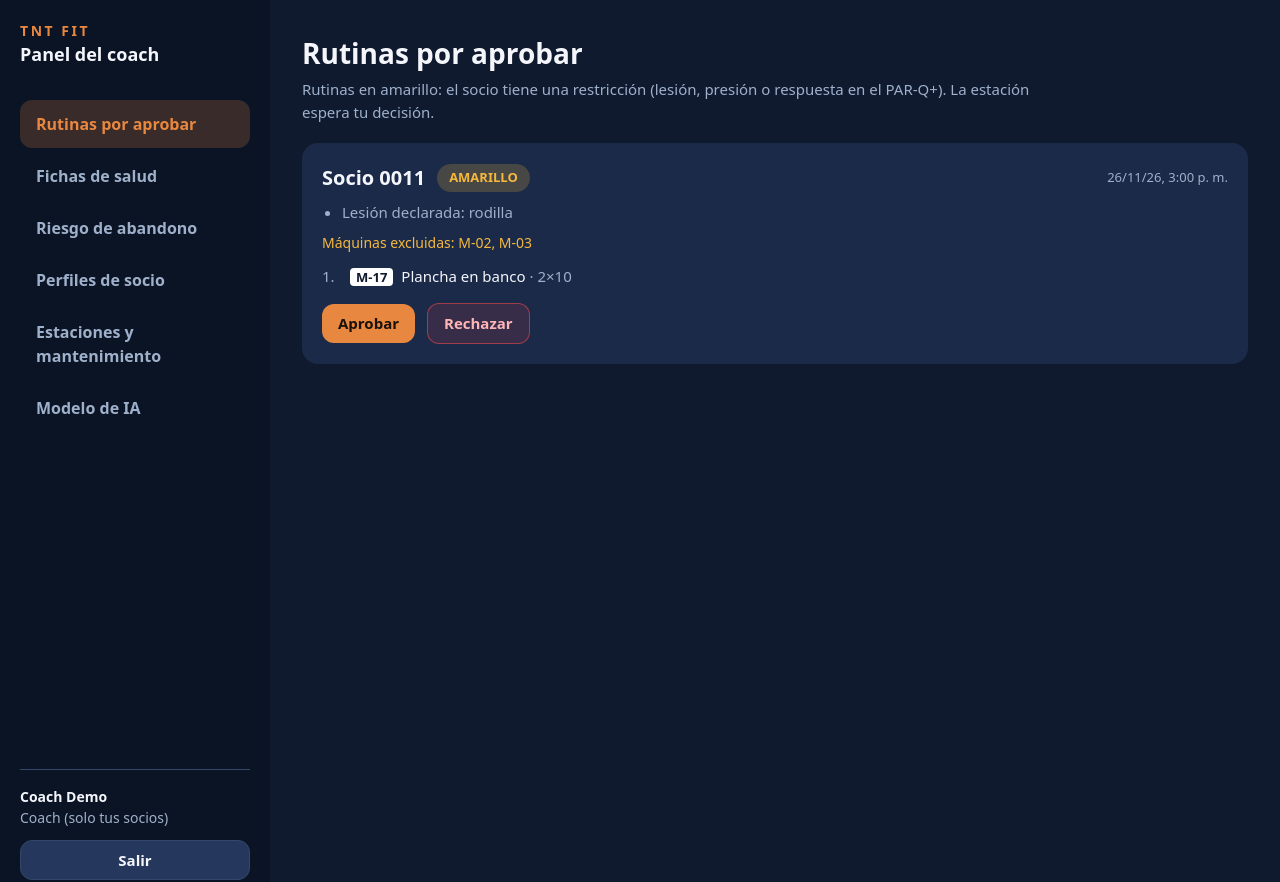
Test: fichas de salud › busca por DNI, quita una lesión con motivo y queda en el historial
Earlier steps of the test are not shown.
Click the button "Fichas de salud" at (135, 176), box [20,152,250,200]
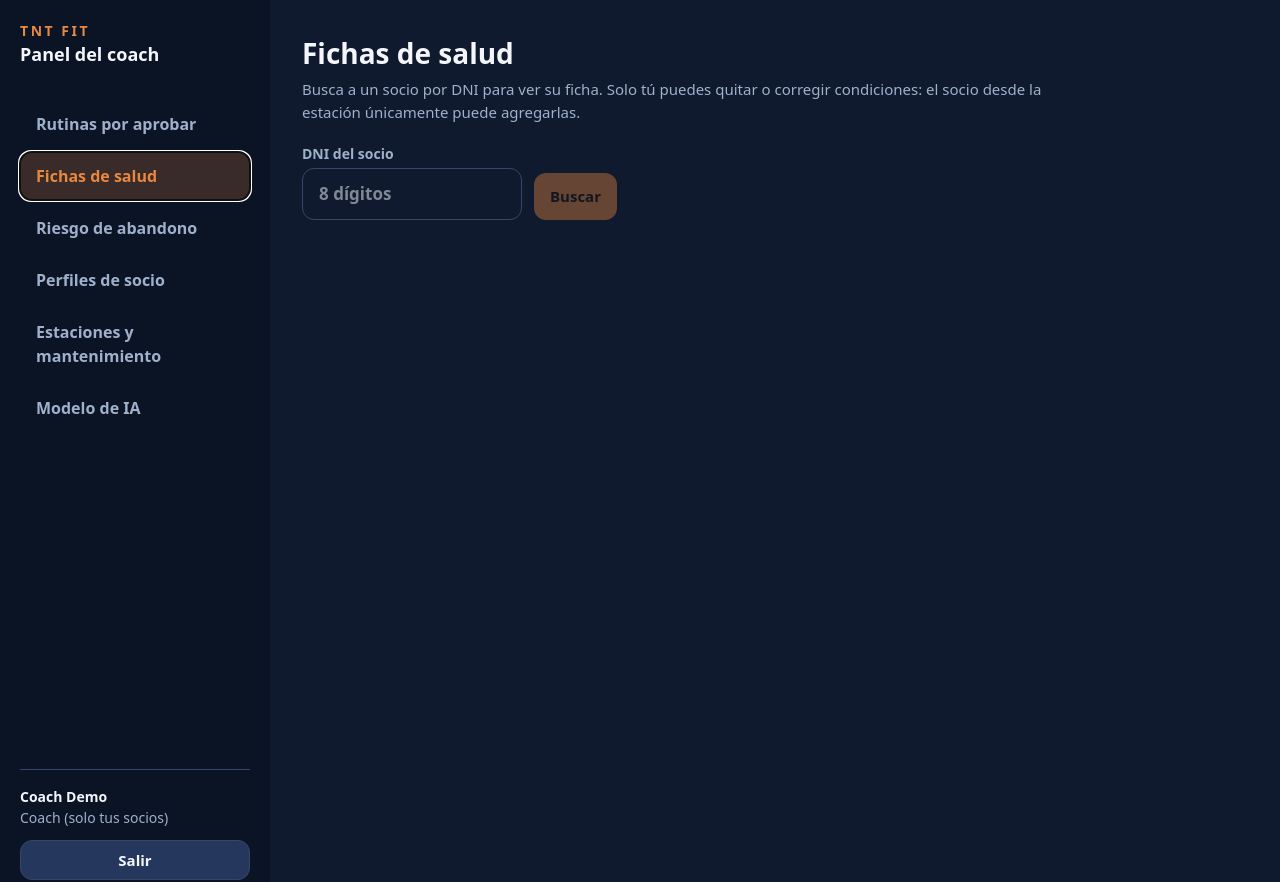
Result: the button "Buscar" is disabled at [534,173,617,220]
Type "12345678" into the field labelled "DNI del socio" at (412, 194), box [302,168,522,220]
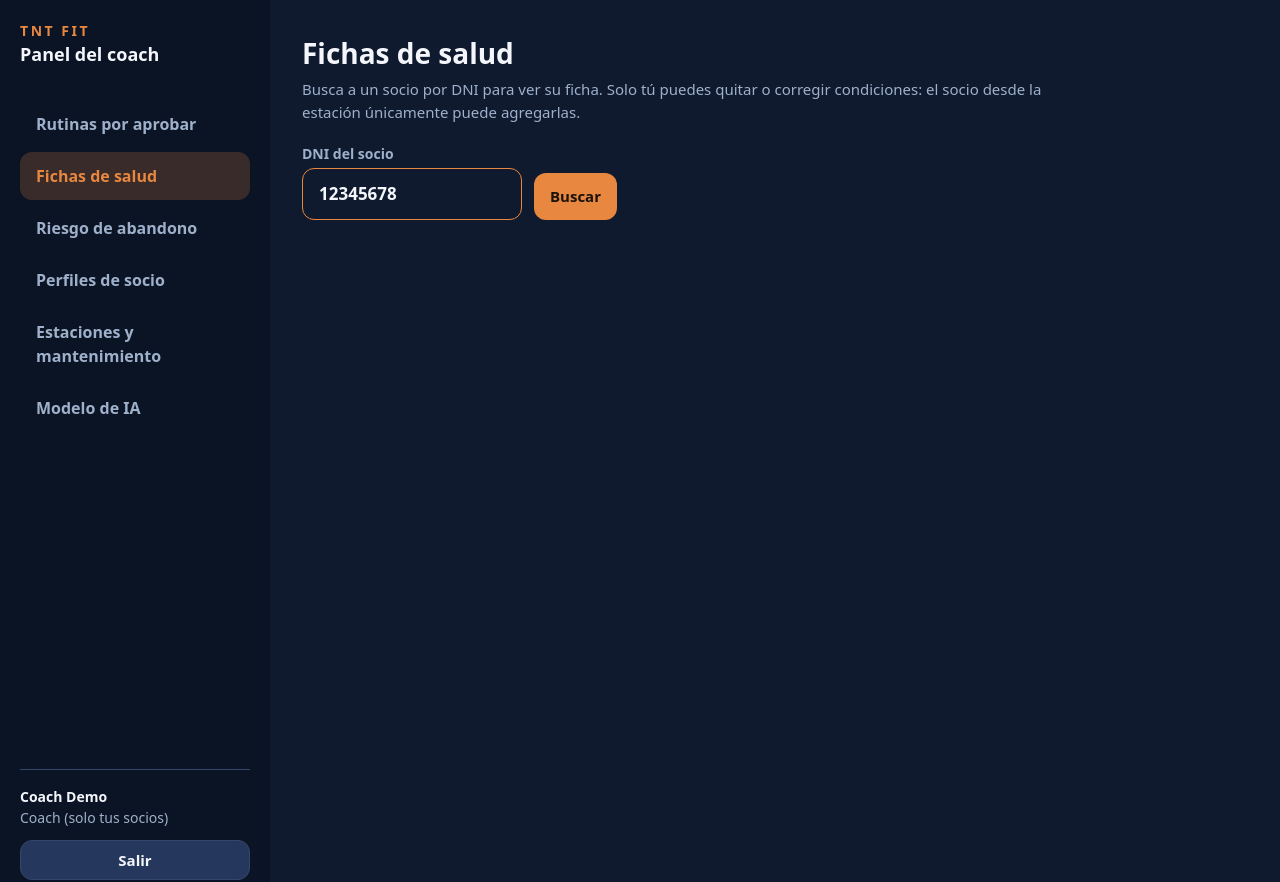
Click the button "Buscar" at (576, 196), box [534,173,617,220]
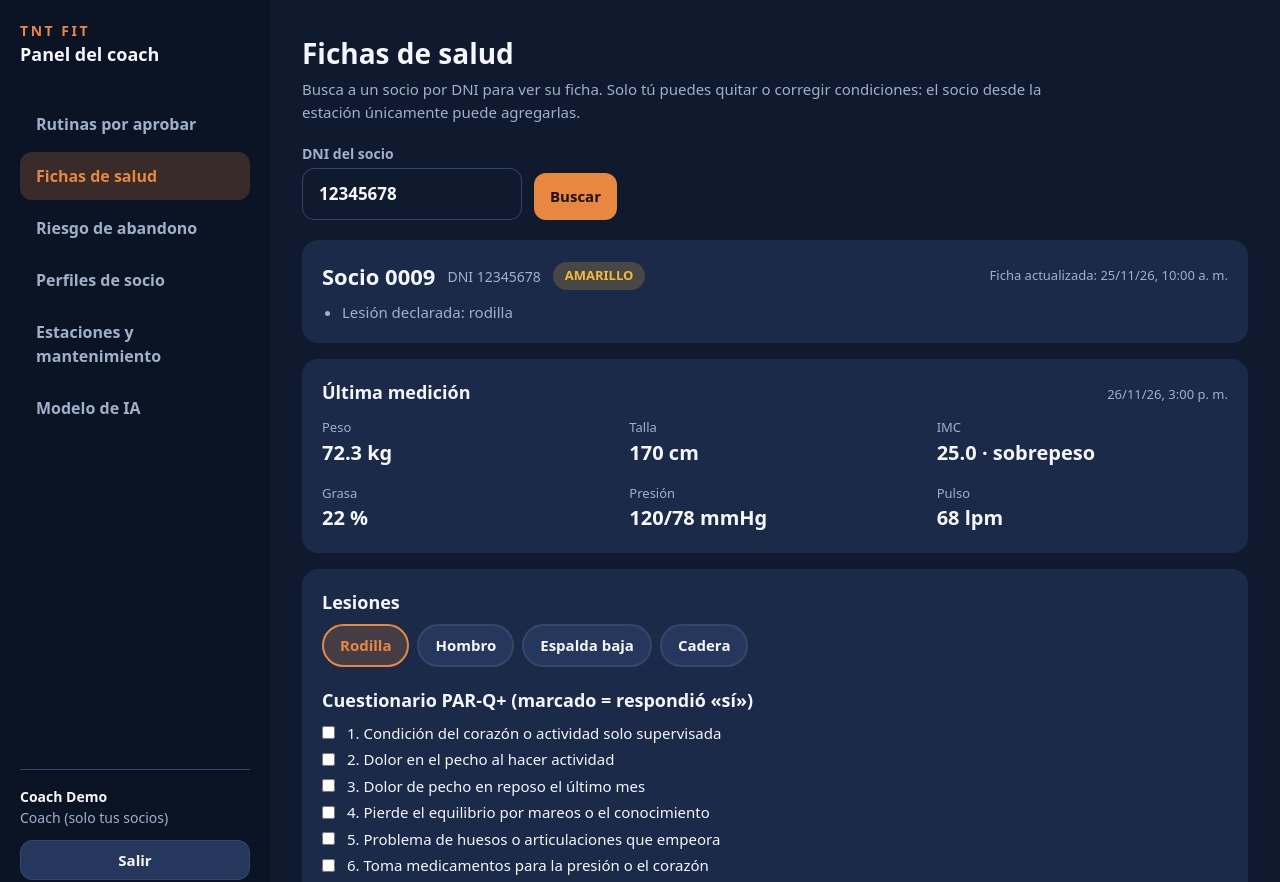
Result: the heading "Socio 0009" is shown at [322,260,435,292]
Click the checkbox labelled "Rodilla" at (366, 645), box [322,624,410,666]
(page scrolled)
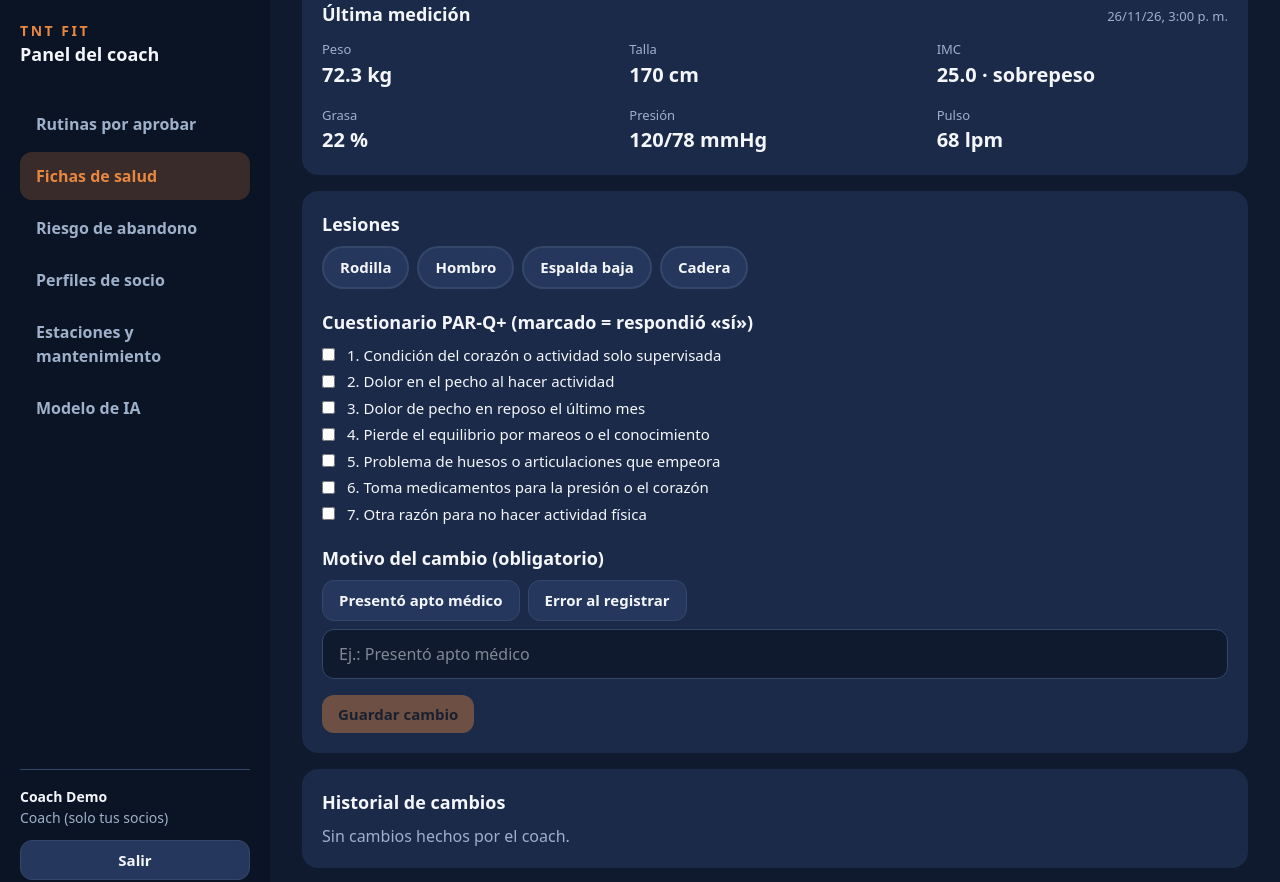
Result: the button "Guardar cambio" is disabled at [322,694,474,733]
Click the button "Presentó apto médico" at (421, 600), box [322,580,520,620]
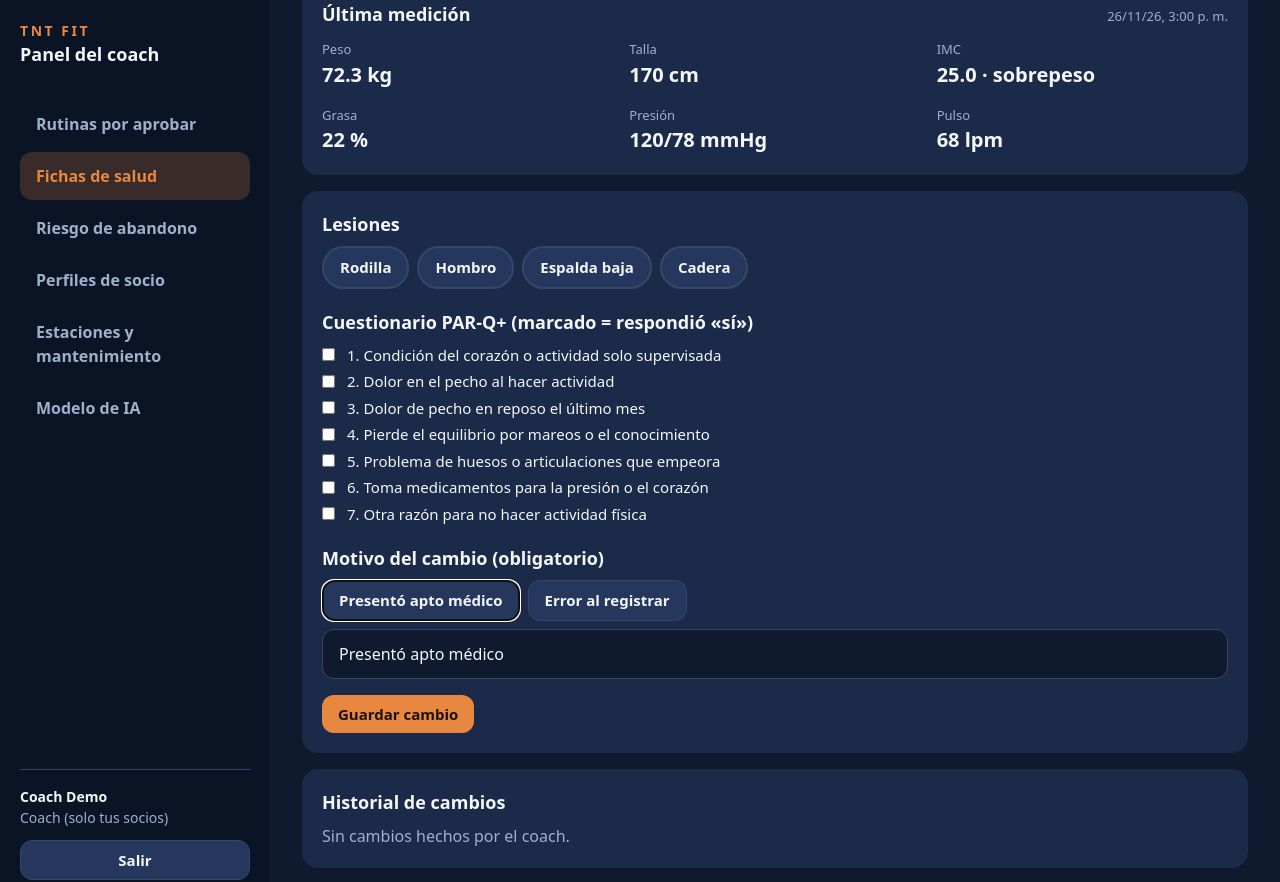
Result: the button "Guardar cambio" is enabled
Click the button "Guardar cambio" at (398, 714), box [322,694,474,733]
(page scrolled)
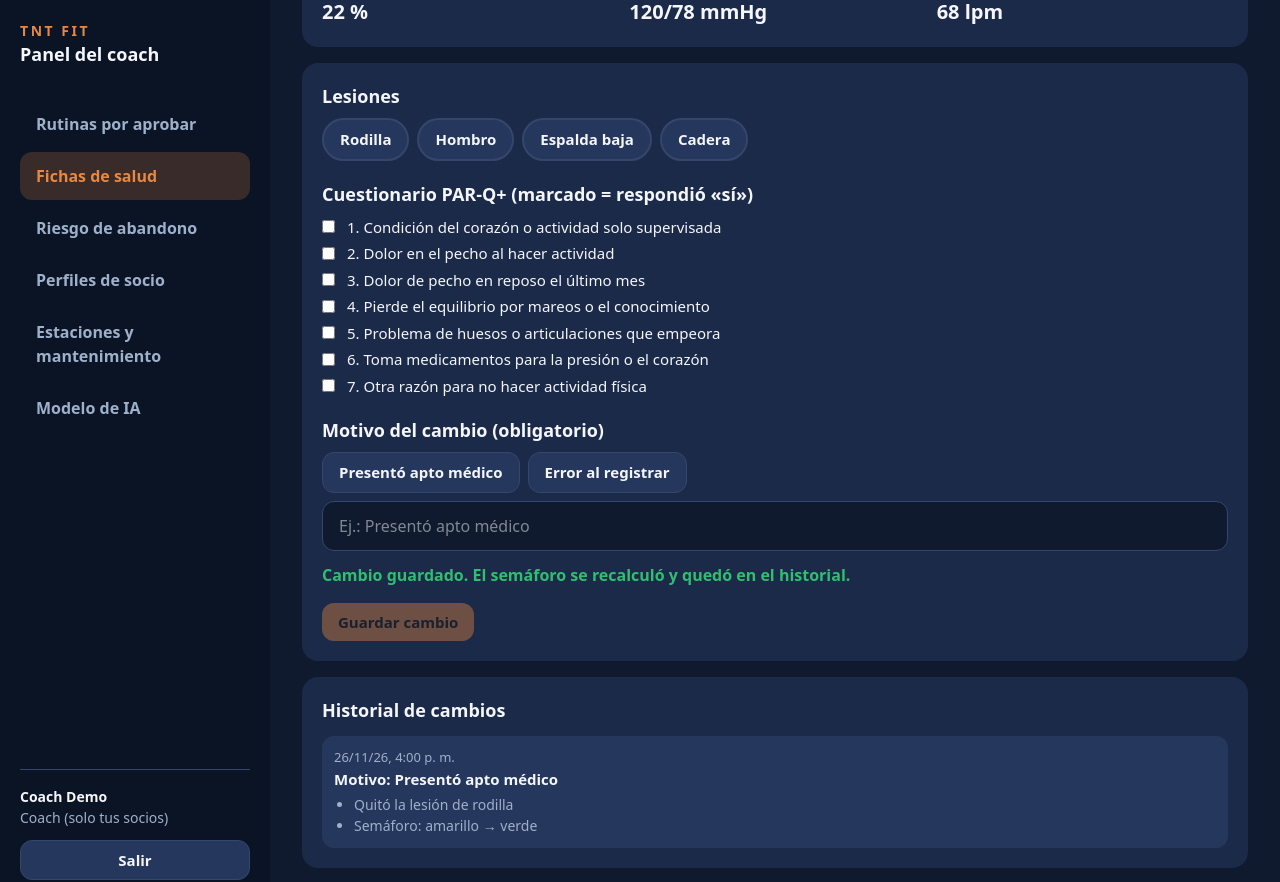
Result: the text "Motivo: Presentó apto médico" is shown at [334,768,558,788]
Result: the list item "Quitó la lesión de rodilla" is shown at [354,795,514,814]
